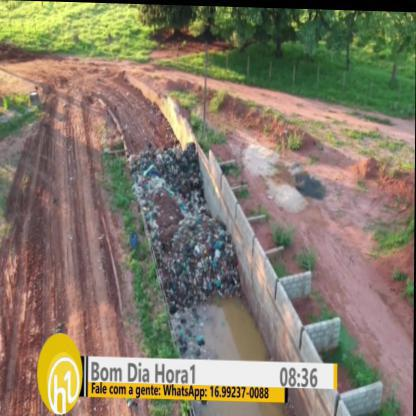agua: (204, 300, 256, 361)
lixo: (144, 153, 228, 282)
